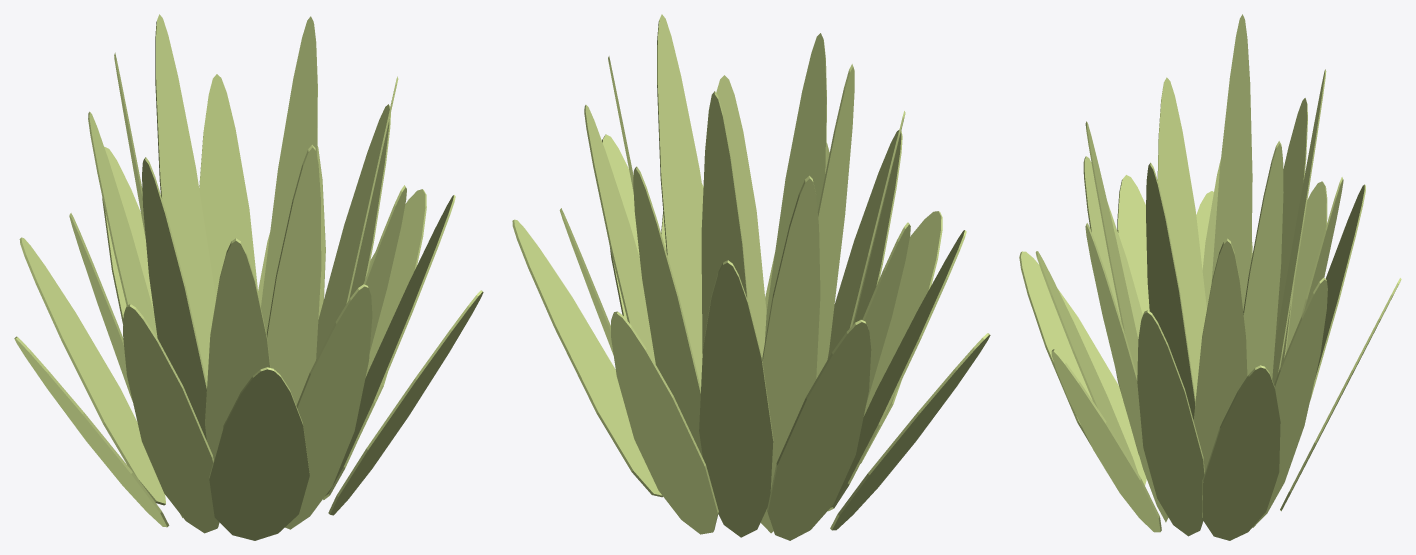
The model's file is Gras1.fbx.
3 views of the same model, side by side, from view 1: azimuth 30°, elevation 25°; view 2: azimuth 150°, elevation 25°; view 3: azimuth 270°, elevation 25° (orthographic). The views are drawn at different scales.
Visible parts, largest first — view 1: Gras1; view 2: Gras1; view 3: Gras1.
Boxes of the visible parts, x1,y1,x2,y2 form: Gras1: (14, 14, 483, 540); Gras1: (512, 14, 990, 540); Gras1: (1019, 14, 1401, 540).
Bounding box in the file's own units: 34.3 × 35.57 × 27.95.
